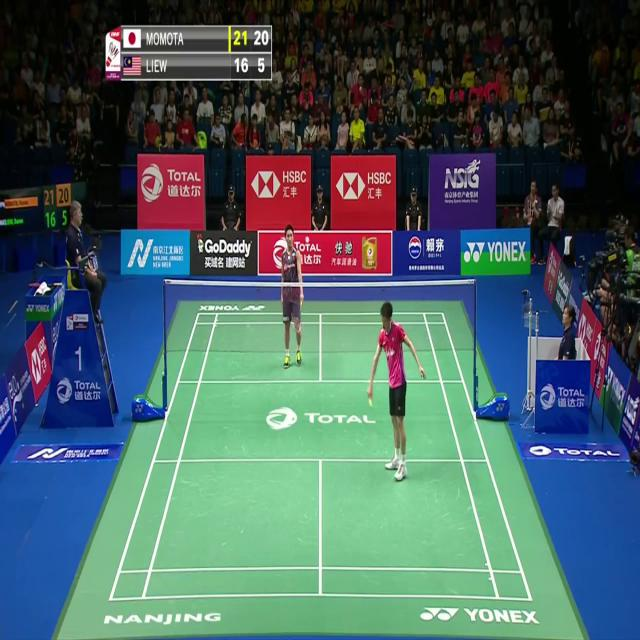Shuttlecock: (304, 234, 310, 246)
